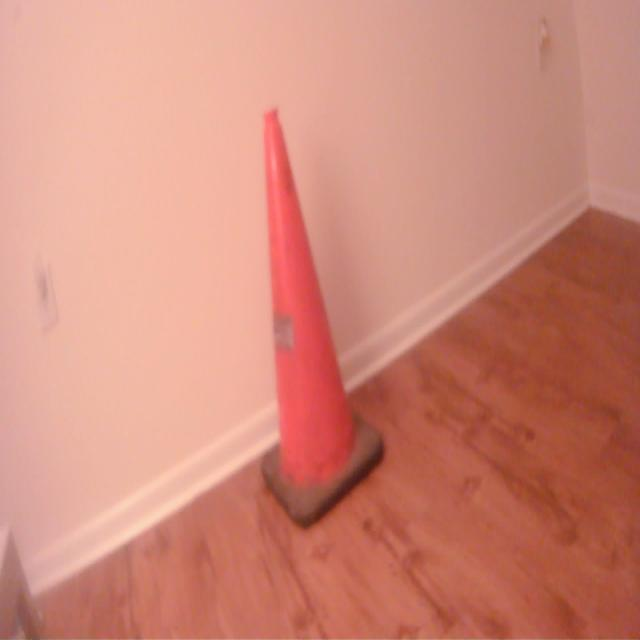traffic cone: (257, 102, 388, 540)
